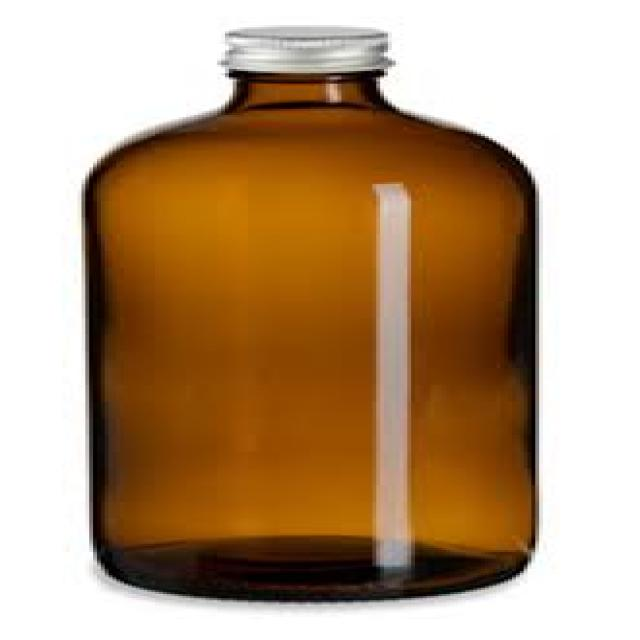glass: (82, 69, 532, 600)
metal: (217, 25, 388, 69)
